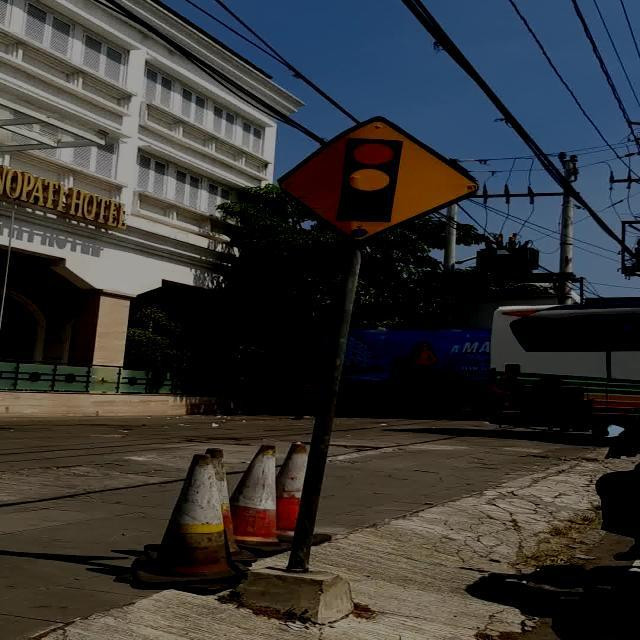Lampu Lalu Lintas: (279, 116, 478, 245)
